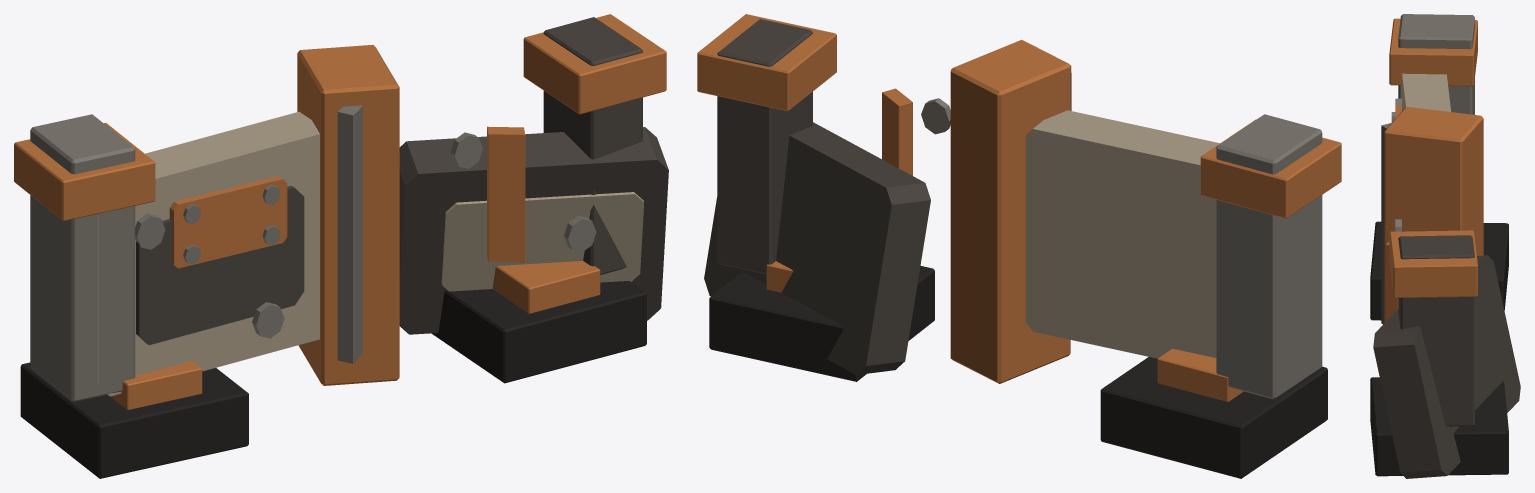
Rendered from barricade__critical.glb.
3 renders of one model, left to right at view 1: azimuth 30°, elevation 25°; view 2: azimuth 150°, elevation 25°; view 3: azimuth 270°, elevation 25°, orthographic. The views are drawn at different scales.
Parts seen in each view (by area): view 1: ROLE_accent, ROLE_primary, ROLE_bareMetal, ROLE_secondary, ROLE_rubber; view 2: ROLE_accent, ROLE_primary, ROLE_secondary, ROLE_rubber, ROLE_bareMetal; view 3: ROLE_primary, ROLE_accent, ROLE_rubber, ROLE_bareMetal, ROLE_secondary.
Part boxes in pixels (box(x1,y1,x2,y2)): ROLE_accent: box(14, 14, 666, 409); ROLE_primary: box(136, 17, 668, 345); ROLE_bareMetal: box(30, 105, 596, 401); ROLE_secondary: box(98, 111, 644, 396); ROLE_rubber: box(20, 281, 646, 478); ROLE_accent: box(697, 14, 1341, 401); ROLE_primary: box(704, 19, 930, 374); ROLE_secondary: box(1026, 110, 1219, 358); ROLE_rubber: box(709, 266, 1327, 478); ROLE_bareMetal: box(921, 65, 1322, 399); ROLE_primary: box(1373, 109, 1520, 478); ROLE_accent: box(1384, 18, 1483, 323); ROLE_rubber: box(1370, 221, 1508, 476); ROLE_bareMetal: box(1381, 14, 1474, 324); ROLE_secondary: box(1401, 73, 1451, 111).
Size of the model in its own units: 7.52 by 3.69 by 2.
